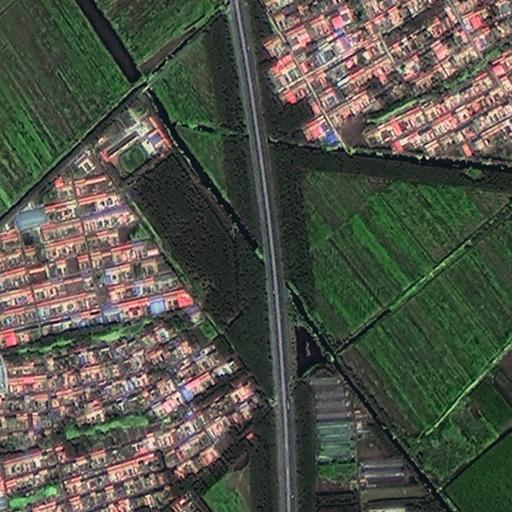school: (97, 109, 174, 182)
